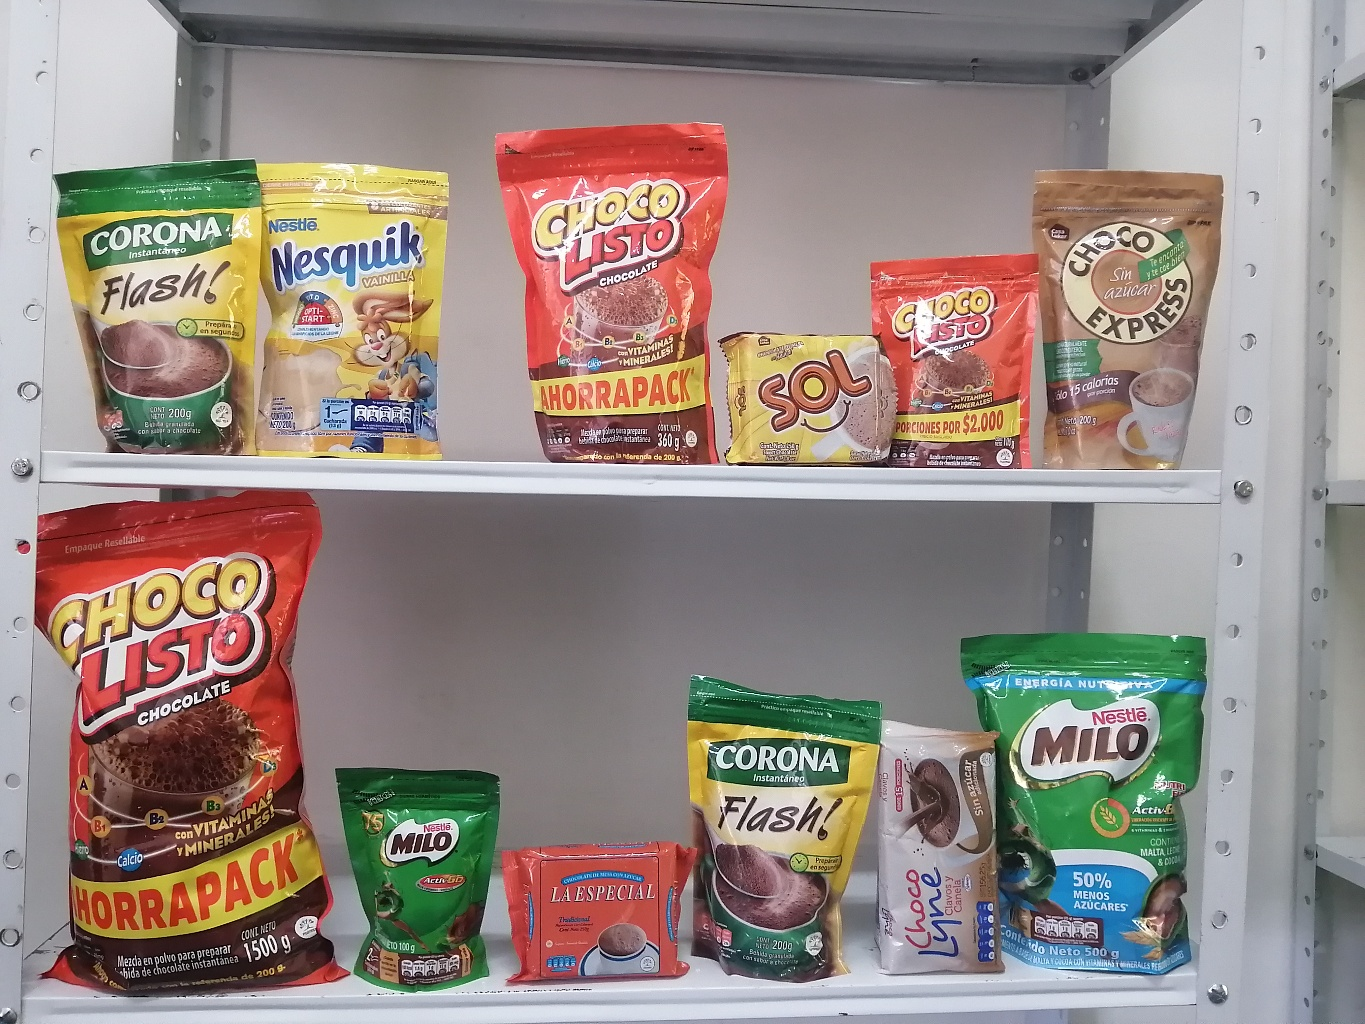COL0170103DYP1,500: (13, 457, 351, 1001)
COL0170103DYP36000: (467, 93, 741, 485)
COL0170203DYP10000: (321, 739, 501, 1002)
COL0170205DYP50000: (953, 601, 1225, 989)
COL0170306DYP20000: (231, 137, 473, 477)
